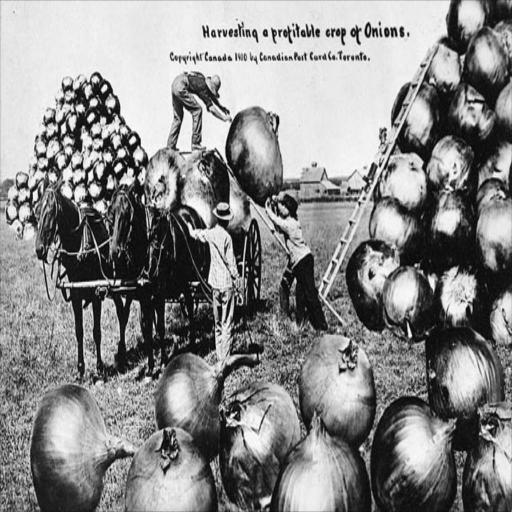horse: (108, 173, 210, 376), (32, 168, 122, 380)
